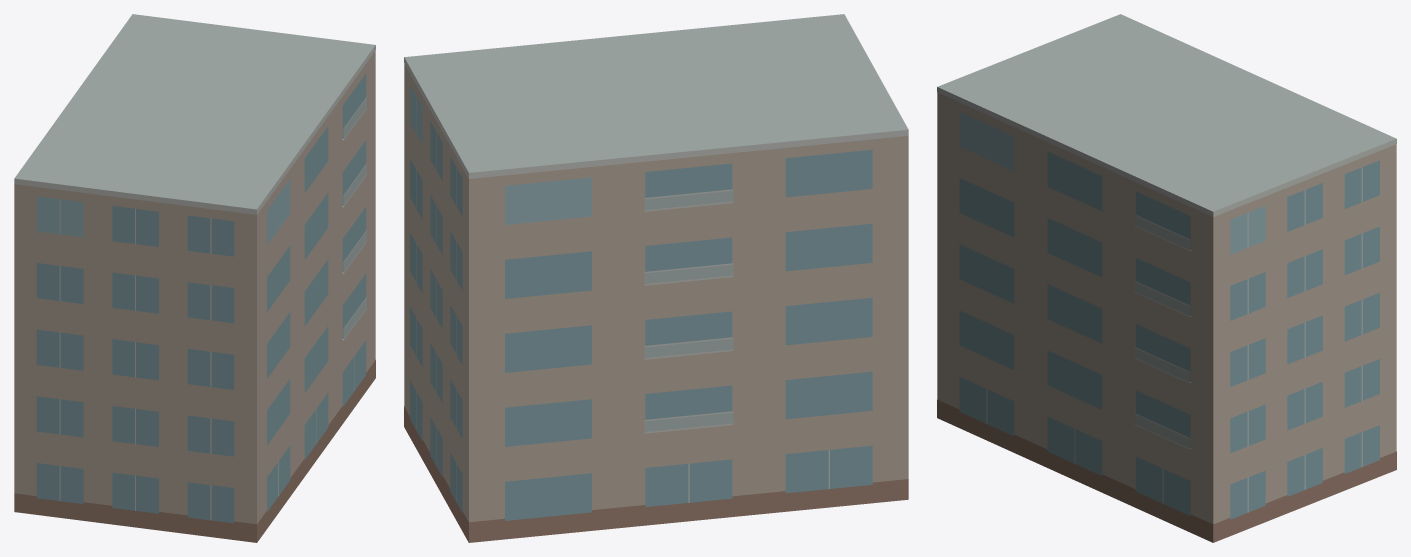
The model's file is survey-upis-32718939.glb.
3 views of the same model, side by side, from view 1: azimuth 30°, elevation 25°; view 2: azimuth 150°, elevation 25°; view 3: azimuth 270°, elevation 25° (orthographic). The views are drawn at different scales.
Visible parts, largest first — view 1: survey-upis-32718939.tmp; view 2: survey-upis-32718939.tmp; view 3: survey-upis-32718939.tmp.
Part boxes in pixels (x1,y1,x2,y2): survey-upis-32718939.tmp: [14, 14, 375, 542]; survey-upis-32718939.tmp: [404, 14, 908, 542]; survey-upis-32718939.tmp: [937, 14, 1396, 542].
Size of the model in its own units: 19.22 by 15 by 18.88.
